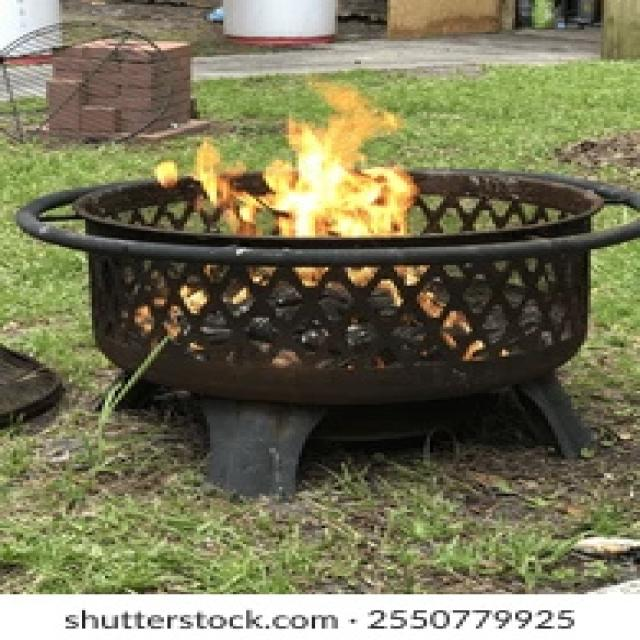fire: (261, 78, 414, 238), (191, 139, 260, 234)
